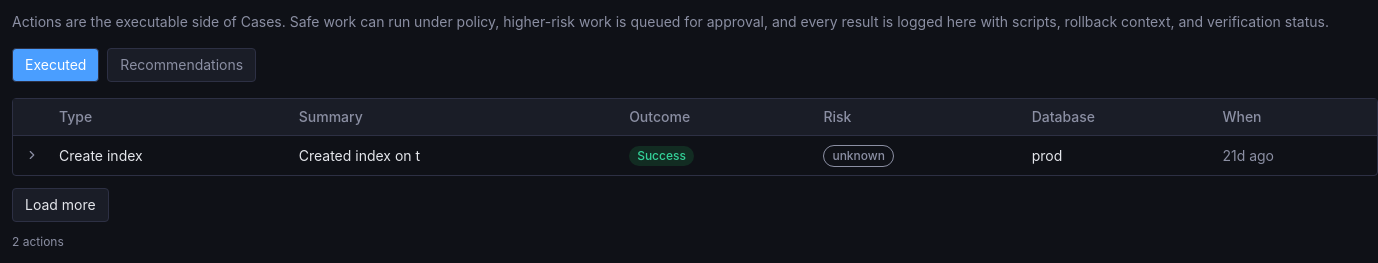
Test: Executed actions paging › loads the next page with next_cursor and appends it
The image size is (1378, 263).
Click the button with test id "actions-load-more".
click(60, 205)  # box [12,188,109,222]
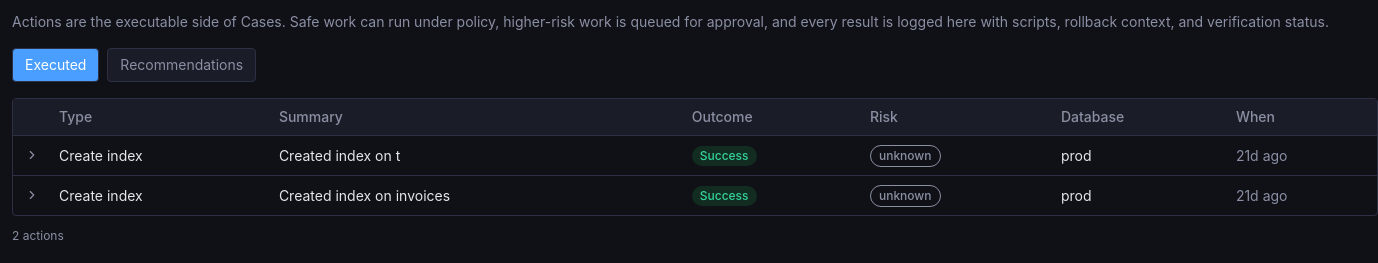
Expected: the text with test id "executed-actions-count" reads "2 actions", [12,228,64,243]
Now the text "Created index on invoices" is shown, box [271,176,684,215]
Now the button with test id "actions-load-more" is gone
